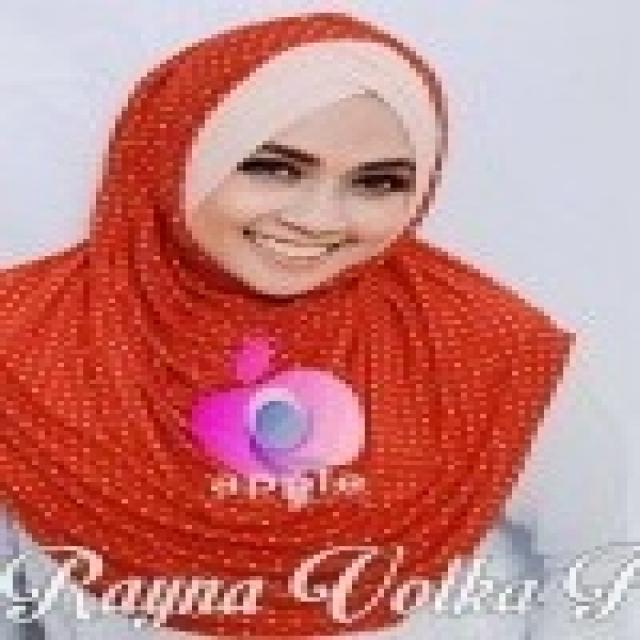head: (121, 18, 454, 296)
